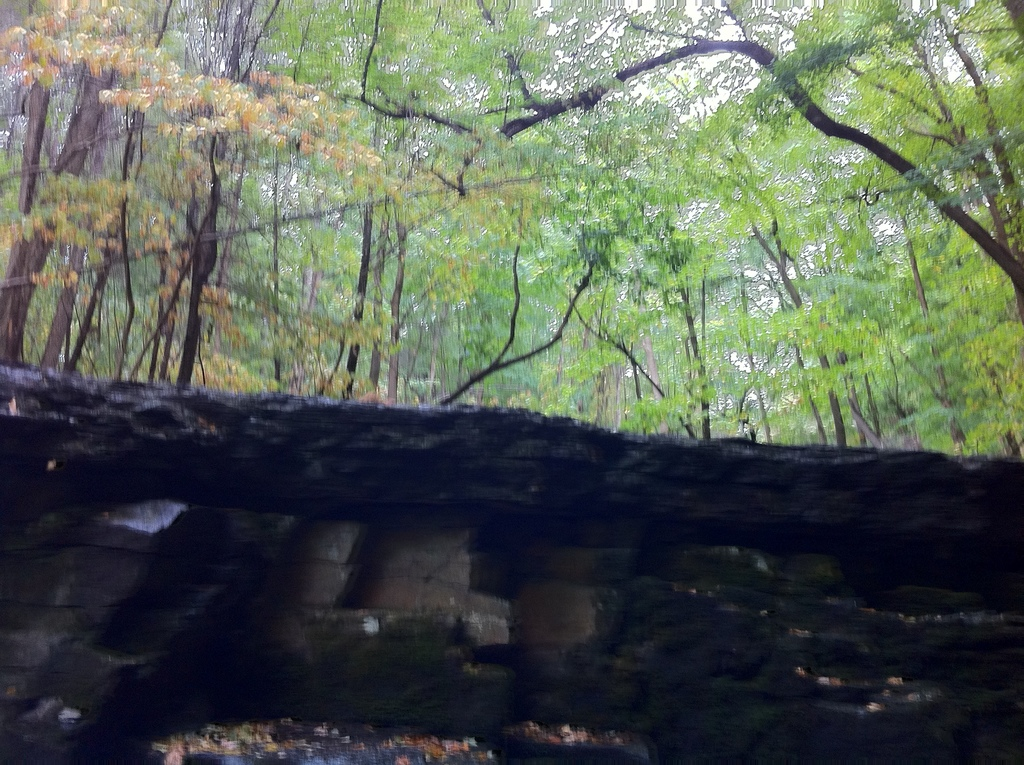Tree: (0, 0, 1023, 454)
